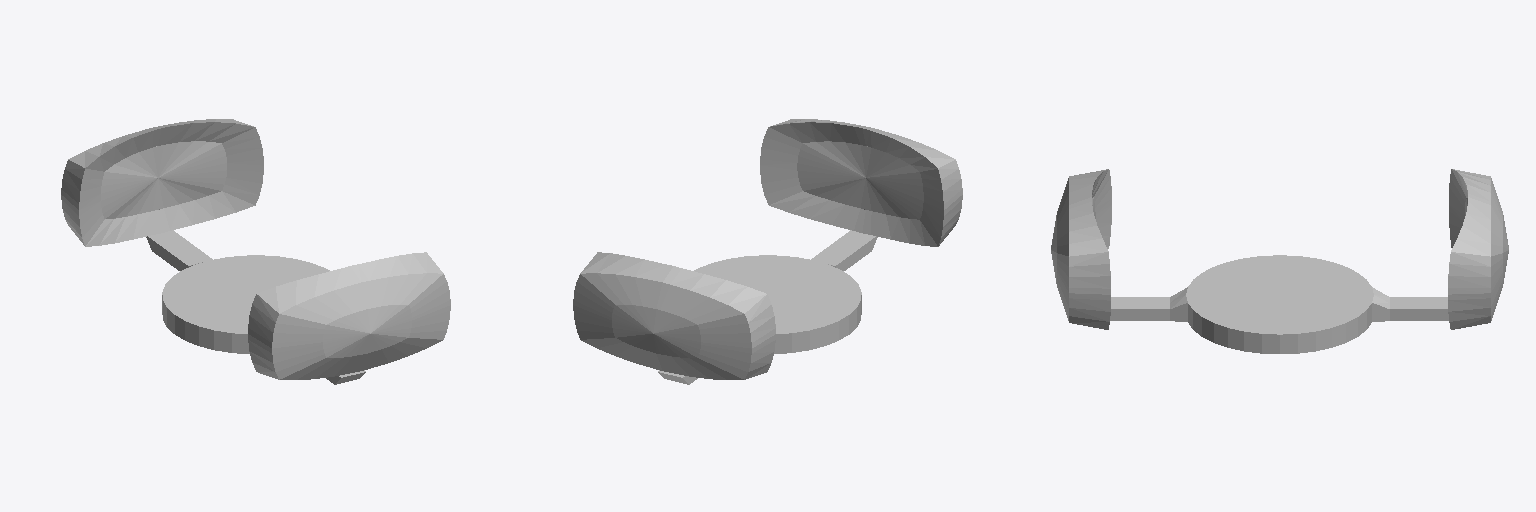
File: teleporter.obj
The picture shows the model from 3 angles: view 1: azimuth 30°, elevation 25°; view 2: azimuth 150°, elevation 25°; view 3: azimuth 270°, elevation 25°; orthographic projection.
Visible parts, largest first — view 1: NurbsCurve.002_CUNurbsCurve.003; view 2: NurbsCurve.002_CUNurbsCurve.003; view 3: NurbsCurve.002_CUNurbsCurve.003.
Boxes of the visible parts, x1,y1,x2,y2 form: NurbsCurve.002_CUNurbsCurve.003: [61, 119, 450, 384]; NurbsCurve.002_CUNurbsCurve.003: [573, 119, 962, 384]; NurbsCurve.002_CUNurbsCurve.003: [1051, 169, 1508, 353].
Size of the model in its own units: 16.39 by 9.97 by 35.13.